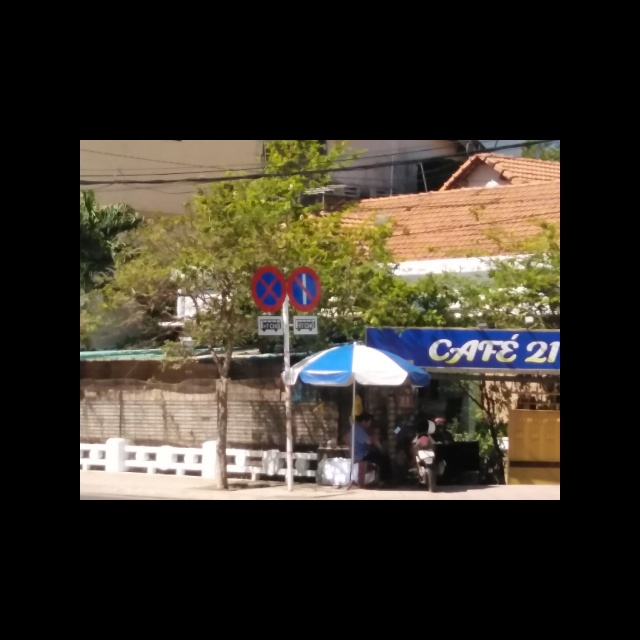Cấm dừng xe và đỗ xe: (252, 267, 287, 313)
Cấm đỗ xe ngày lẻ: (289, 267, 323, 312)
